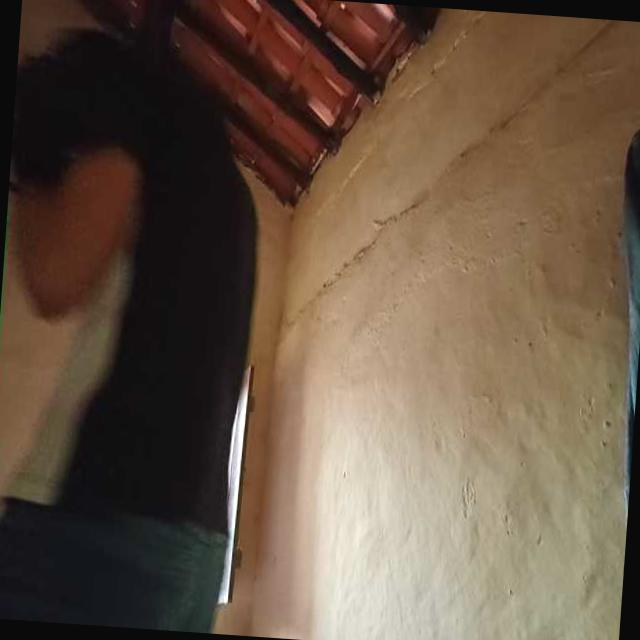pessoa: (0, 13, 274, 634)
